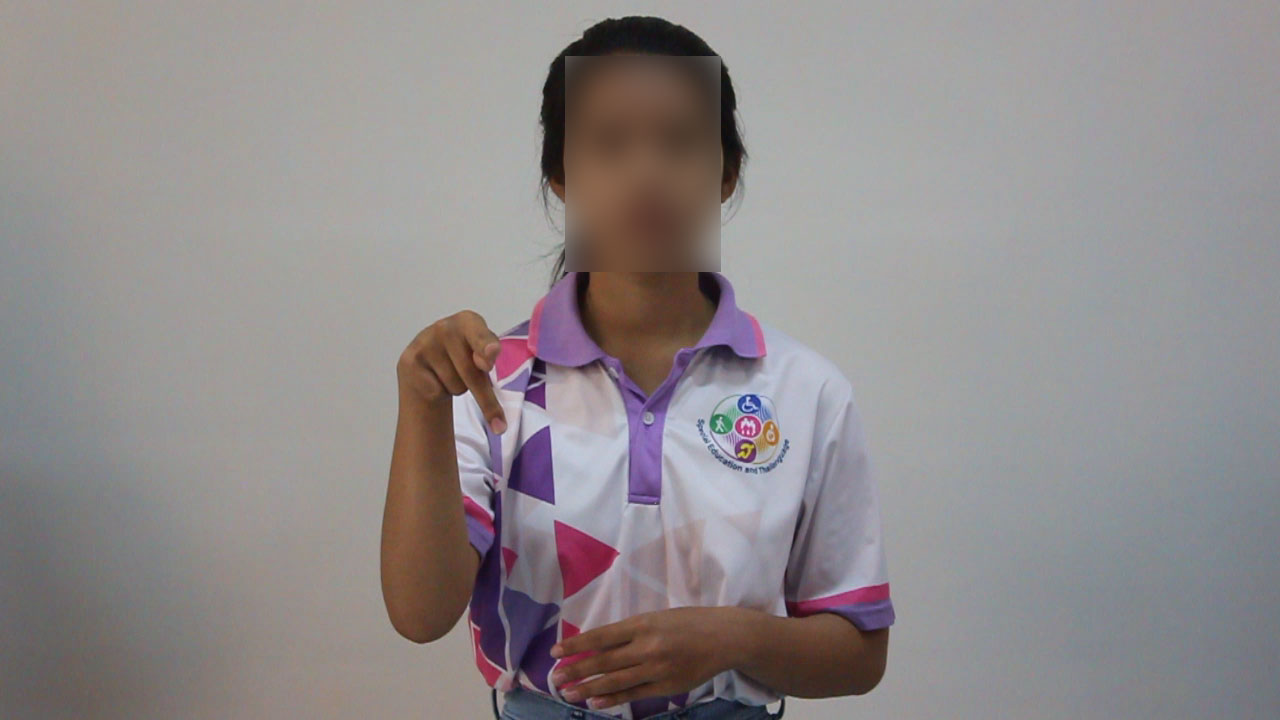por: (393, 299, 520, 446)
